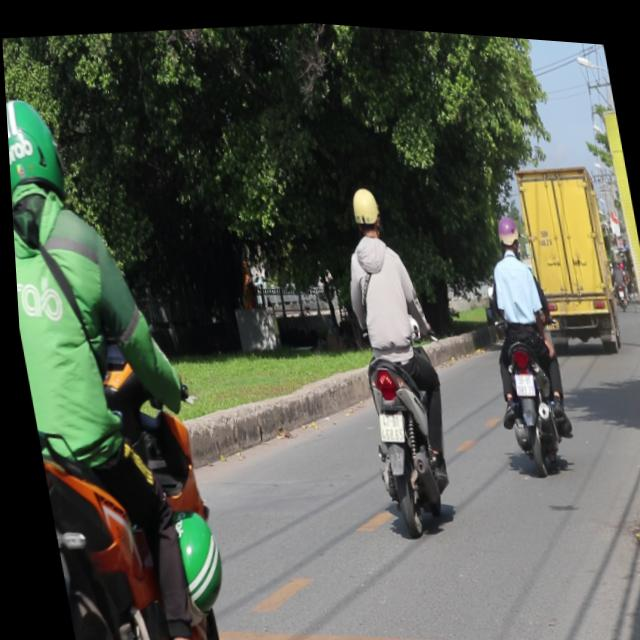helmet: (4, 90, 67, 216), (344, 176, 380, 233), (489, 202, 519, 247)
licenseplate: (4, 76, 239, 640), (321, 171, 461, 535), (460, 199, 575, 470)
nohelmet: (370, 405, 400, 437), (508, 362, 530, 388)
